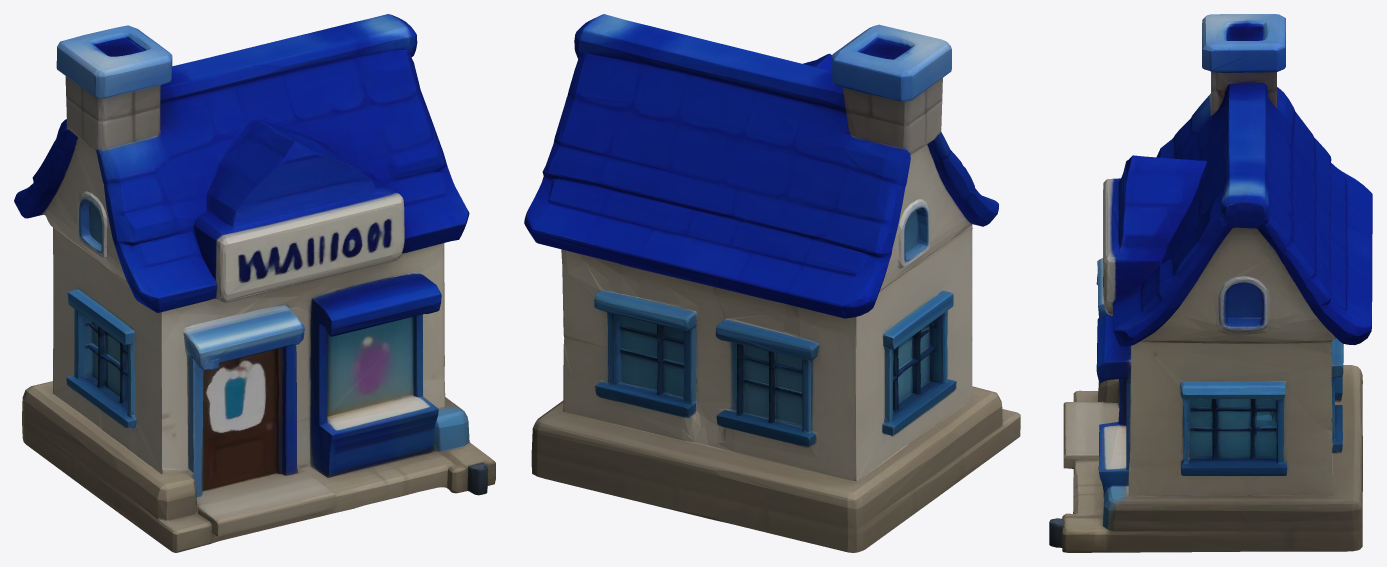
The model's file is royal_blue_roof_business.glb.
3 views of the same model, side by side, from view 1: azimuth 30°, elevation 25°; view 2: azimuth 150°, elevation 25°; view 3: azimuth 270°, elevation 25° (orthographic). The views are drawn at different scales.
Visible parts, largest first — view 1: geometry_0; view 2: geometry_0; view 3: geometry_0.
Boxes of the visible parts, x1=… form: geometry_0: x1=14, y1=14, x2=495, y2=552; geometry_0: x1=524, y1=14, x2=1020, y2=552; geometry_0: x1=1049, y1=14, x2=1372, y2=552.
Size of the model in its own units: 0.8033 by 0.9987 by 0.7346.
1 material, 1 textured.
